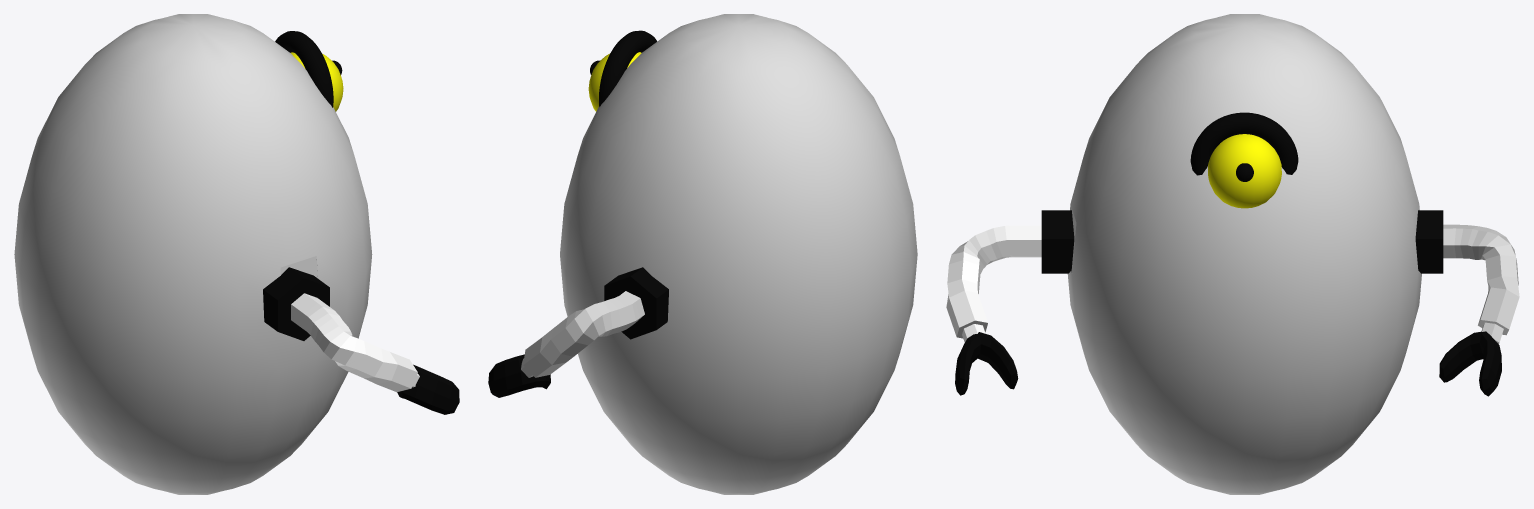
File: Moveable Arm Player Model.fbx
The picture shows the model from 3 angles, left to right: view 1: azimuth 30°, elevation 25°; view 2: azimuth 150°, elevation 25°; view 3: azimuth 270°, elevation 25°; orthographic projection.
Parts seen in each view (by area): view 1: Cylinder.003, Cylinder.001; view 2: Cylinder.003; view 3: Cylinder.003, Cylinder.001.
Boxes of the visible parts, x1,y1,x2,y2 form: Cylinder.003: (14,14,372,494); Cylinder.001: (263,256,459,414); Cylinder.003: (488,14,917,494); Cylinder.003: (1067,14,1519,494); Cylinder.001: (946,205,1076,395).
Size of the model in its own units: 185 by 261 by 296.
